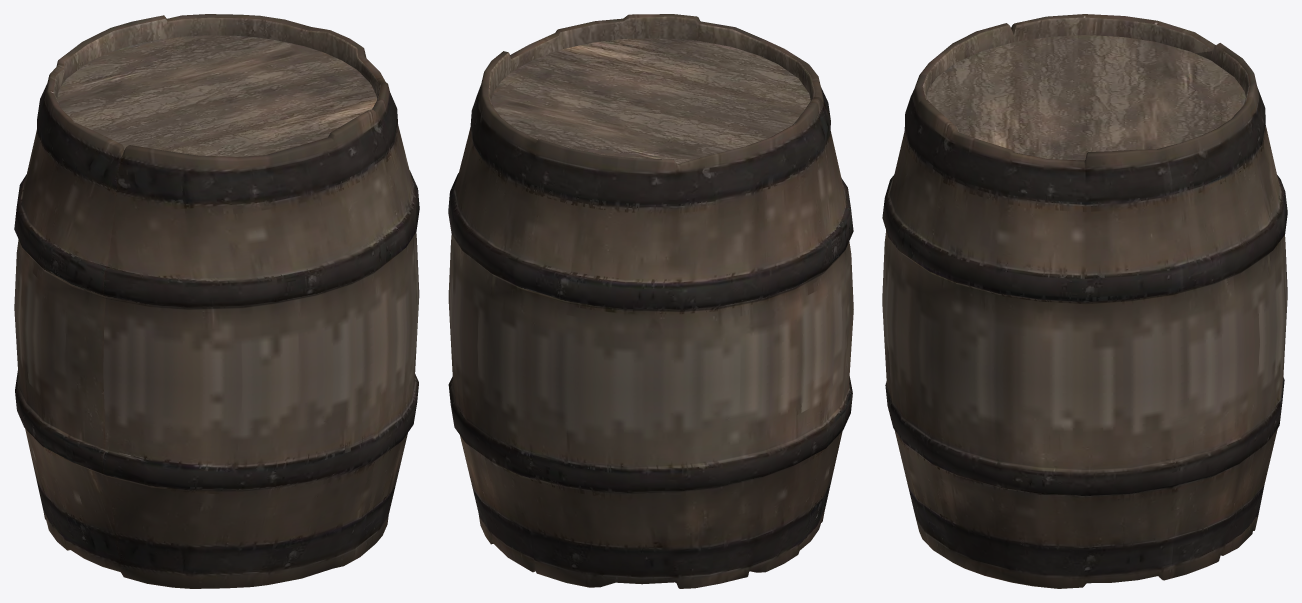
The model's file is prop_barrel_01.glb.
3 views of the same model, side by side, from view 1: azimuth 30°, elevation 25°; view 2: azimuth 150°, elevation 25°; view 3: azimuth 270°, elevation 25° (orthographic).
Visible parts, largest first — view 1: prop_barrel_01; view 2: prop_barrel_01; view 3: prop_barrel_01.
Part boxes in pixels (<box>): prop_barrel_01: <box>14,14,419,588</box>; prop_barrel_01: <box>448,14,853,588</box>; prop_barrel_01: <box>882,14,1287,588</box>.
Bounding box in the file's own units: 0.8658 × 1.02 × 0.8616.
1 material, 1 textured.
